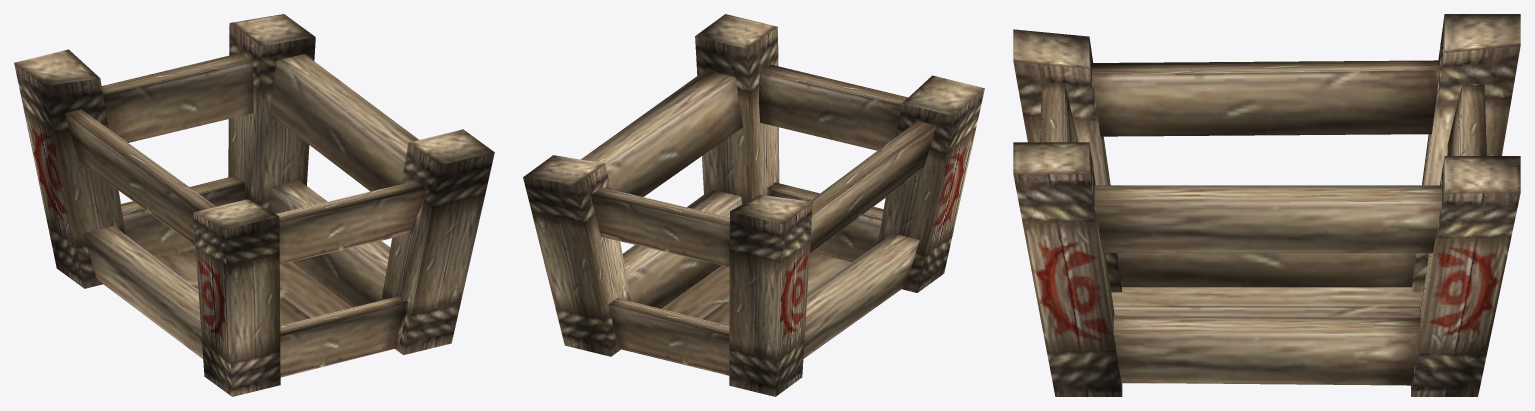
The model's file is orccrate02.obj.
3 renders of one model, left to right at view 1: azimuth 30°, elevation 25°; view 2: azimuth 150°, elevation 25°; view 3: azimuth 270°, elevation 25°, orthographic. The views are drawn at different scales.
Visible parts, largest first — view 1: ORCCRATE020; view 2: ORCCRATE020; view 3: ORCCRATE020.
Part boxes in pixels (x1,y1,x2,y2): ORCCRATE020: [14, 14, 494, 396]; ORCCRATE020: [523, 14, 984, 396]; ORCCRATE020: [1013, 14, 1520, 396].
Size of the model in its own units: 1.1 by 0.7719 by 1.48.
1 material, 1 textured.
